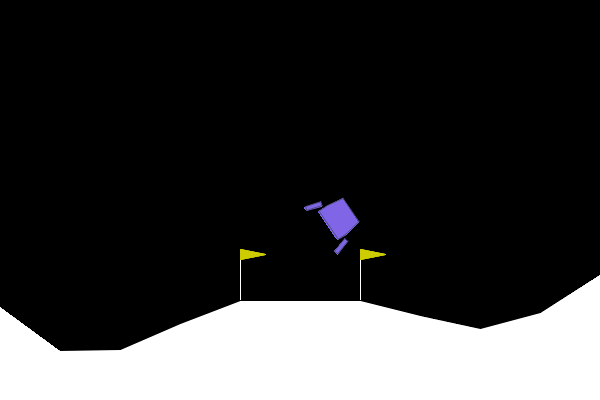lander: (302, 184, 369, 257)
